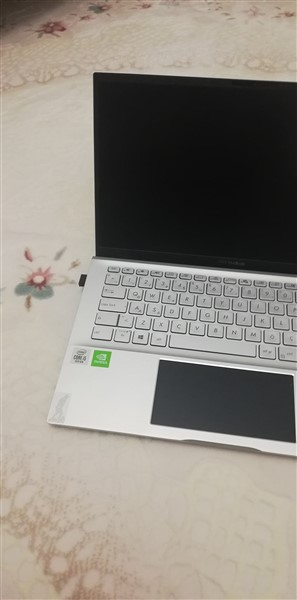laptop: (46, 63, 297, 463)
